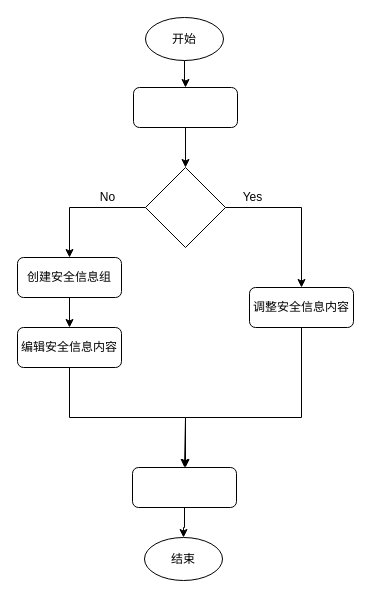
The diagram is 371 pixels wide and 598 high, and some of its shapes have lost their labels. Each missing label, with the box of its shape:
分析安全信息组需求: (132, 86, 238, 128)
已有安全信息组: (144, 166, 226, 248)
引用安全信息组: (132, 466, 236, 508)
